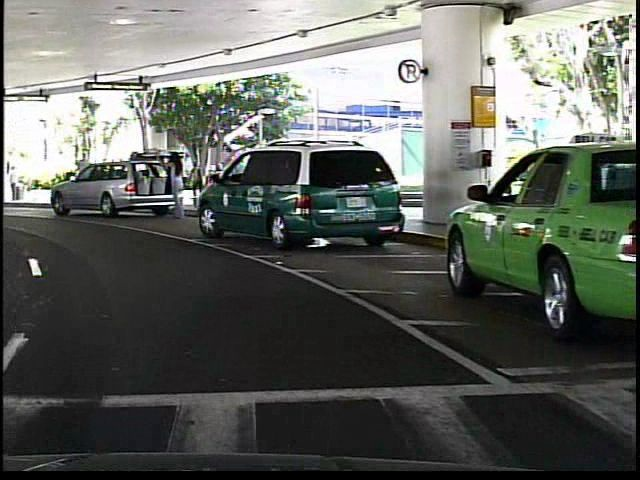person: (165, 145, 184, 225), (67, 149, 92, 201), (183, 155, 202, 213)
